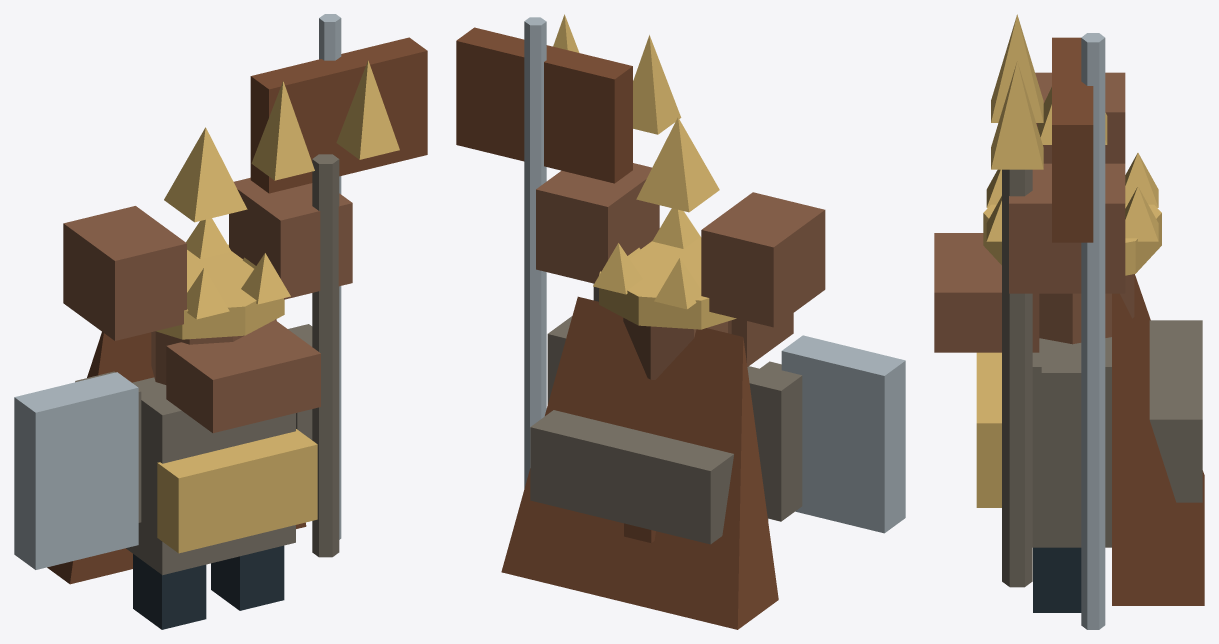
File: converter.obj
3 renders of one model, left to right at view 1: azimuth 30°, elevation 25°; view 2: azimuth 150°, elevation 25°; view 3: azimuth 270°, elevation 25°, orthographic. The views are drawn at different scales.
Visible parts, largest first — view 1: hero; view 2: hero; view 3: hero.
Boxes of the visible parts, <box> form: hero: <box>14,14,427,629</box>; hero: <box>456,14,905,629</box>; hero: <box>934,14,1204,629</box>.
Size of the model in its own units: 1.94 by 2.45 by 0.9774.
